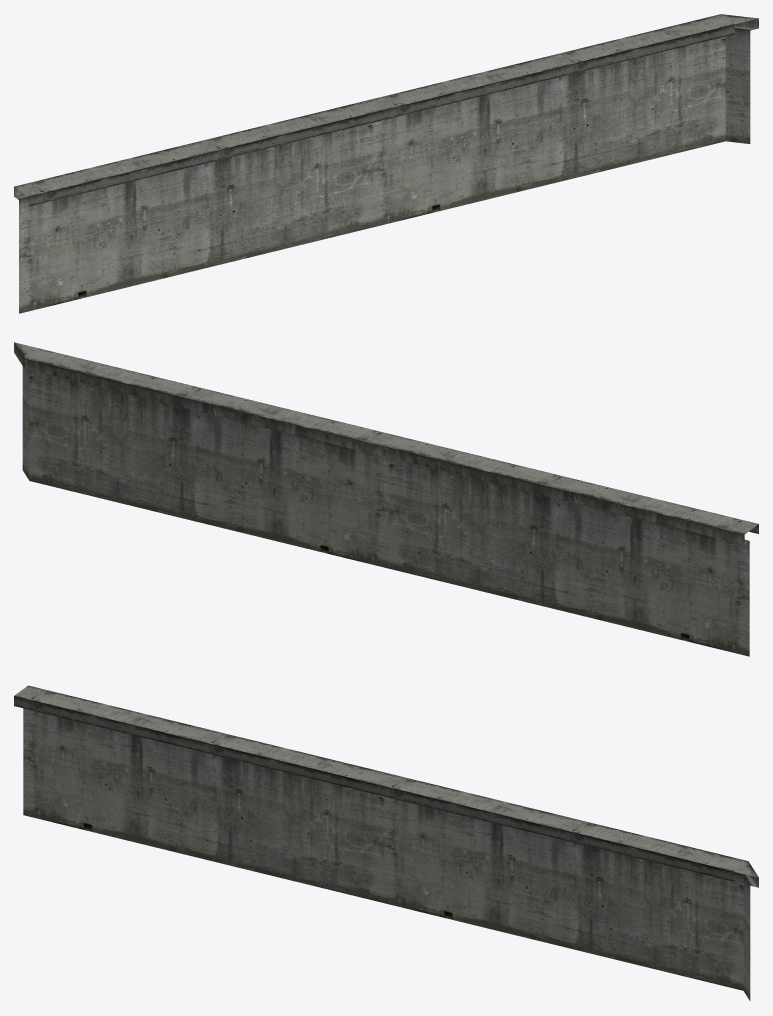
Rendered from UNIConcrete_wall_v1_W_end_2.glb.
3 renders of one model, top to bottom at view 1: azimuth 30°, elevation 25°; view 2: azimuth 150°, elevation 25°; view 3: azimuth 330°, elevation 25°, orthographic.
Visible parts, largest first — view 1: UNIConcrete_wall_v1_W_end_2; view 2: UNIConcrete_wall_v1_W_end_2; view 3: UNIConcrete_wall_v1_W_end_2.
Part boxes in pixels (<box>): UNIConcrete_wall_v1_W_end_2: <box>14,14,758,313</box>; UNIConcrete_wall_v1_W_end_2: <box>14,342,758,656</box>; UNIConcrete_wall_v1_W_end_2: <box>14,685,758,1000</box>.
Bounding box in the file's own units: 10.34 × 1.67 × 0.3428.
1 material, 1 textured.
